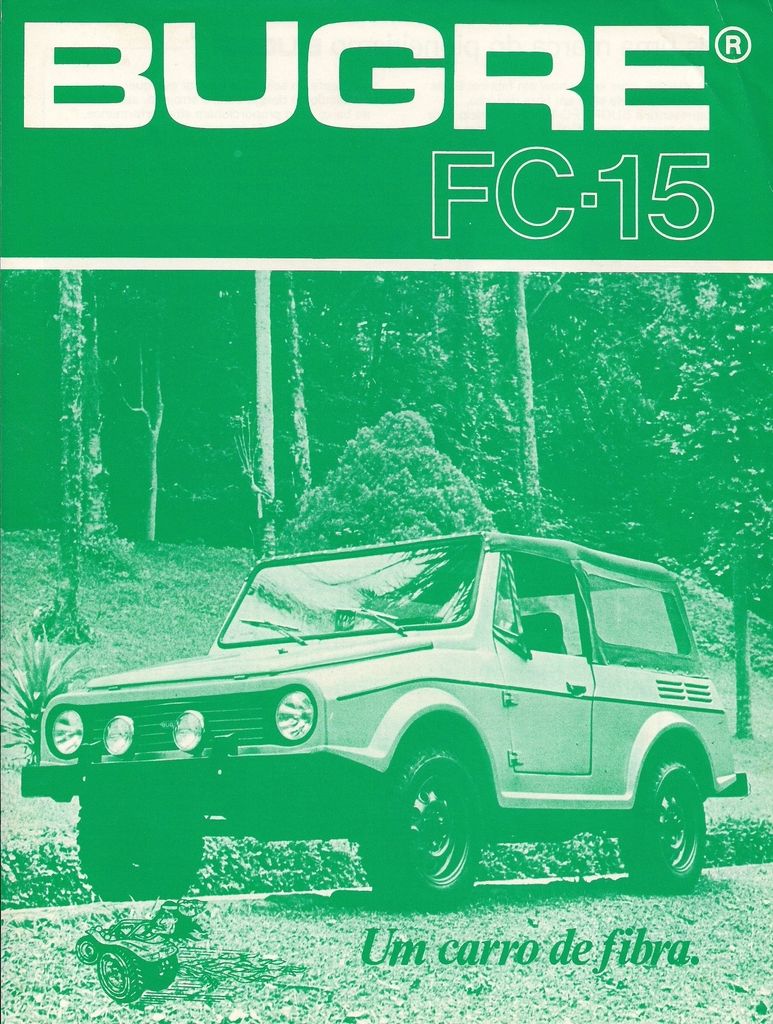Car: (17, 528, 746, 897)
